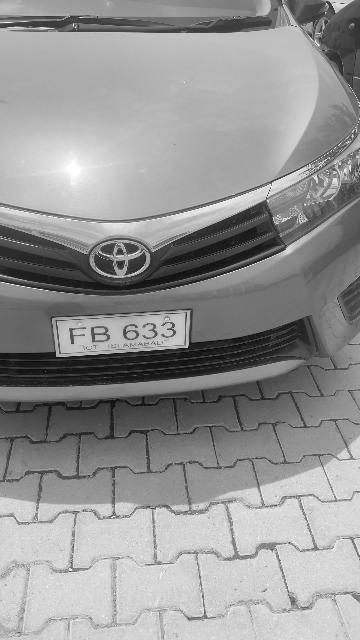Number: (64, 318, 180, 346)
